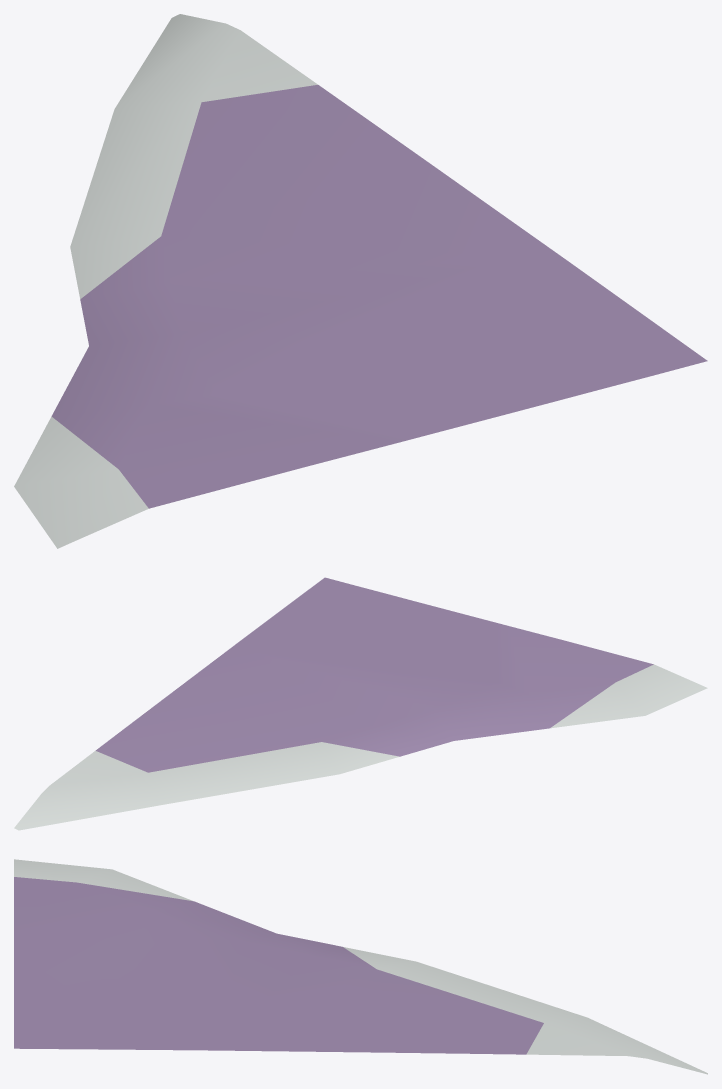
3 renders of one model, top to bottom at view 1: azimuth 30°, elevation 25°; view 2: azimuth 150°, elevation 25°; view 3: azimuth 270°, elevation 25°, orthographic. The views are drawn at different scales.
Visible parts, largest first — view 1: G:\FFXIV-MapTools\exports\m5f1\bg\ex4\02_mid_m5\fld\m5f1\bgp (×2); view 2: G:\FFXIV-MapTools\exports\m5f1\bg\ex4\02_mid_m5\fld\m5f1\bgp (×2); view 3: G:\FFXIV-MapTools\exports\m5f1\bg\ex4\02_mid_m5\fld\m5f1\bgp (×2).
Boxes of the visible parts, x1,y1,x2,y2 form: G:\FFXIV-MapTools\exports\m5f1\bg\ex4\02_mid_m5\fld\m5f1\bgp (×2): [14, 14, 707, 548]; G:\FFXIV-MapTools\exports\m5f1\bg\ex4\02_mid_m5\fld\m5f1\bgp (×2): [14, 577, 707, 830]; G:\FFXIV-MapTools\exports\m5f1\bg\ex4\02_mid_m5\fld\m5f1\bgp (×2): [14, 859, 707, 1074].
Size of the model in its own units: 91.06 by 5.52 by 128.
